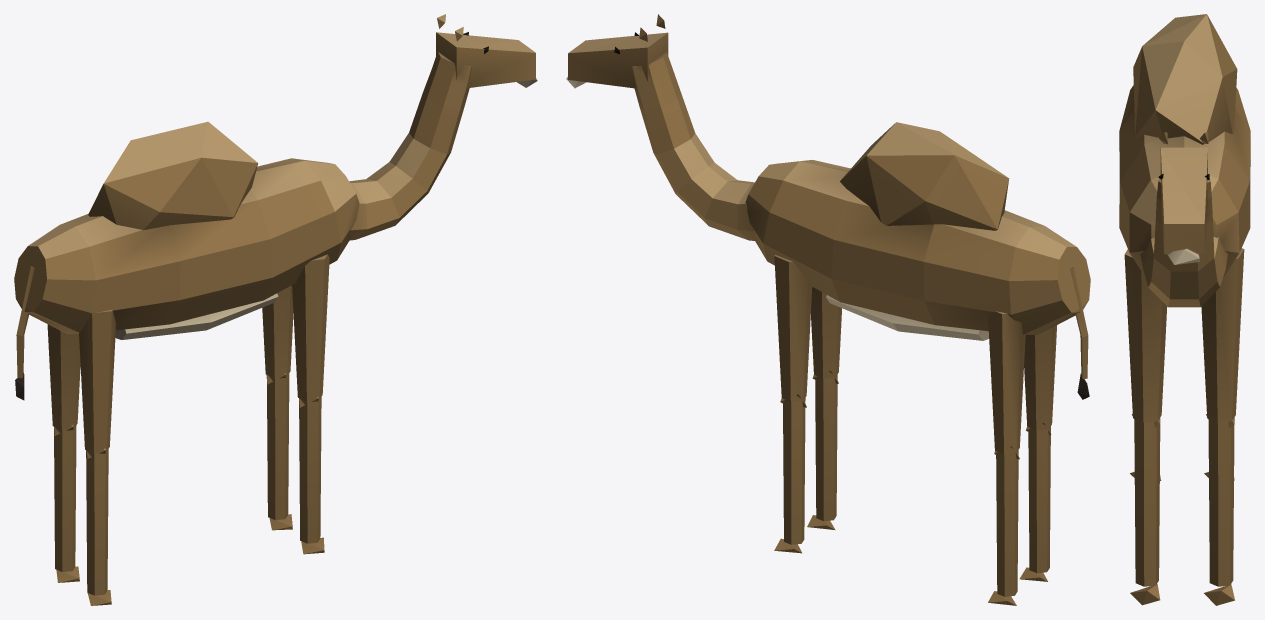
File: mt_camel_sand.glb
The picture shows the model from 3 angles, left to right: view 1: azimuth 30°, elevation 25°; view 2: azimuth 150°, elevation 25°; view 3: azimuth 270°, elevation 25°; orthographic projection. The views are drawn at different scales.
Visible parts, largest first — view 1: base, head_m, leg3_m, leg1_m, leg2_m, leg0_m, tail_m; view 2: base, head_m, leg2_m, leg0_m, leg3_m, leg1_m, tail_m; view 3: base, head_m, leg0_m, leg1_m.
Part boxes in pixels (x1=…): base: x1=14, y1=121, x2=359, y2=339; head_m: x1=349, y1=14, x2=537, y2=240; leg3_m: x1=79, y1=309, x2=115, y2=605; leg1_m: x1=292, y1=254, x2=329, y2=554; leg2_m: x1=47, y1=324, x2=80, y2=582; leg0_m: x1=262, y1=285, x2=293, y2=530; tail_m: x1=15, y1=266, x2=34, y2=400; base: x1=745, y1=122, x2=1090, y2=340; head_m: x1=566, y1=14, x2=754, y2=240; leg2_m: x1=988, y1=311, x2=1025, y2=605; leg0_m: x1=774, y1=254, x2=812, y2=553; leg3_m: x1=1019, y1=325, x2=1056, y2=581; leg1_m: x1=807, y1=287, x2=841, y2=529; tail_m: x1=1070, y1=267, x2=1089, y2=399; base: x1=1119, y1=14, x2=1250, y2=277; head_m: x1=1140, y1=132, x2=1227, y2=307; leg0_m: x1=1201, y1=248, x2=1244, y2=605; leg1_m: x1=1124, y1=249, x2=1167, y2=605.
Size of the model in its own units: 1.02 by 0.911 by 0.1945.
